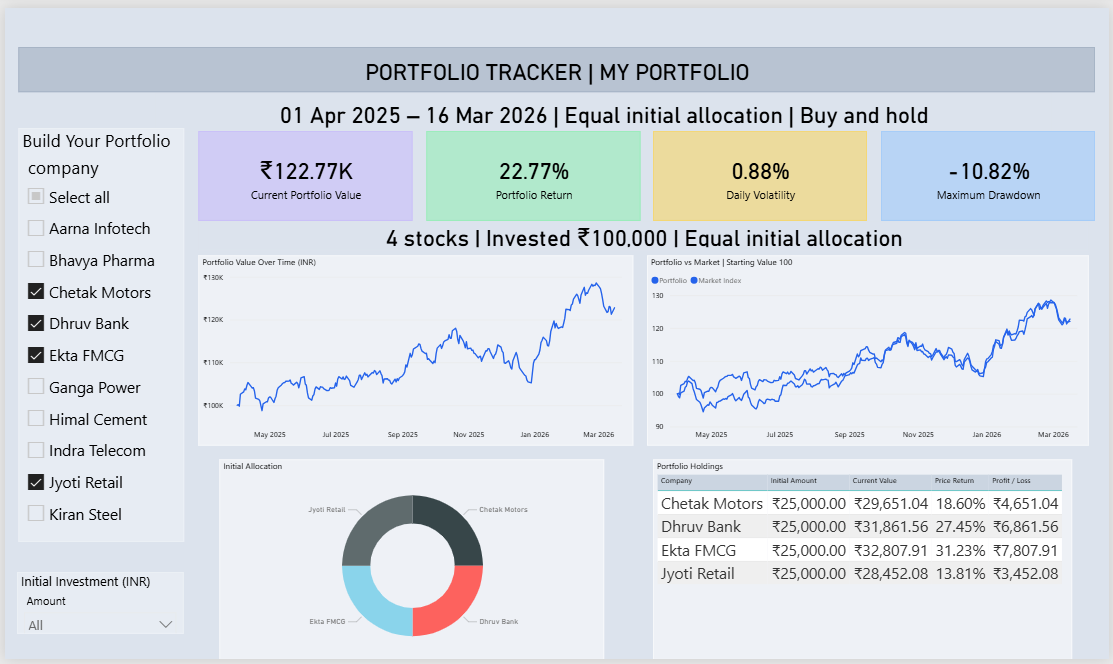

This screenshot's page, from the dashboard's own definition file:
{"tool":"powerbi","page":{"name":"My Portfolio","canvas":[1600,900],"ordinal":1},"visuals":[{"type":"card","fields":{"Values":["Prices.Page Title"]},"box":[20,14,1560,65],"z":0},{"type":"card","fields":{"Values":["Prices.Page Subtitle"]},"box":[217.5,80,1300,55],"z":1000},{"type":"slicer","title":"Build Your Portfolio","fields":{"Values":["Portfolio Selection.company"]},"box":[20,130,240,600],"z":2000},{"type":"slicer","title":"Initial Investment (INR)","fields":{"Values":["Investment Amount.Amount"]},"box":[20,750,240,90],"z":3000},{"type":"card","fields":{"Values":["Prices.Current Portfolio Value"]},"box":[280,135,310,130],"z":4000},{"type":"card","fields":{"Values":["Prices.Portfolio Return"]},"box":[610,135,310,130],"z":5000},{"type":"card","fields":{"Values":["Prices.Portfolio Volatility"]},"box":[940,135,310,130],"z":6000},{"type":"card","fields":{"Values":["Prices.Portfolio Maximum Drawdown"]},"box":[1270,135,310,130],"z":7000},{"type":"card","fields":{"Values":["Prices.Selection Summary"]},"box":[280,265,1290,42.5],"z":8000},{"type":"lineChart","title":"Portfolio Value Over Time (INR)","fields":{"Category":["Dates.Date"],"Y":["Prices.Portfolio Value"]},"box":[280,315,630,275],"z":9000},{"type":"lineChart","title":"Portfolio vs Market | Starting Value 100","fields":{"Category":["Dates.Date"],"Y":["Prices.Portfolio Growth Base 100","Prices.Index Growth Base 100"]},"box":[930,315,640,275],"z":10000},{"type":"donutChart","title":"Initial Allocation","fields":{"Category":["Portfolio Selection.company"],"Y":["Prices.Holding Initial Amount"]},"box":[310,610,557.5,290],"z":11000},{"type":"tableEx","title":"Portfolio Holdings","fields":{"Values":["Portfolio Selection.company","Prices.Holding Initial Amount","Prices.Holding Current Value","Prices.Holding Return","Prices.Holding Profit"]},"box":[940,610,607.5,290],"z":12000}]}

Visuals, with their boxes on the page's 1600x900 design canvas (x1, y1, x2, y2). These are canvas units, not pixel positions in the 1113x664 screenshot, which may show the page scaled, cropped or inside an application window:
card - Prices.Page Title: (20, 14, 1580, 79)
card - Prices.Page Subtitle: (218, 80, 1518, 135)
"Build Your Portfolio" slicer: (20, 130, 260, 730)
"Initial Investment (INR)" slicer: (20, 750, 260, 840)
card - Prices.Current Portfolio Value: (280, 135, 590, 265)
card - Prices.Portfolio Return: (610, 135, 920, 265)
card - Prices.Portfolio Volatility: (940, 135, 1250, 265)
card - Prices.Portfolio Maximum Drawdown: (1270, 135, 1580, 265)
card - Prices.Selection Summary: (280, 265, 1570, 308)
"Portfolio Value Over Time (INR)" lineChart: (280, 315, 910, 590)
"Portfolio vs Market | Starting Value 100" lineChart: (930, 315, 1570, 590)
"Initial Allocation" donutChart: (310, 610, 868, 900)
"Portfolio Holdings" tableEx: (940, 610, 1548, 900)
